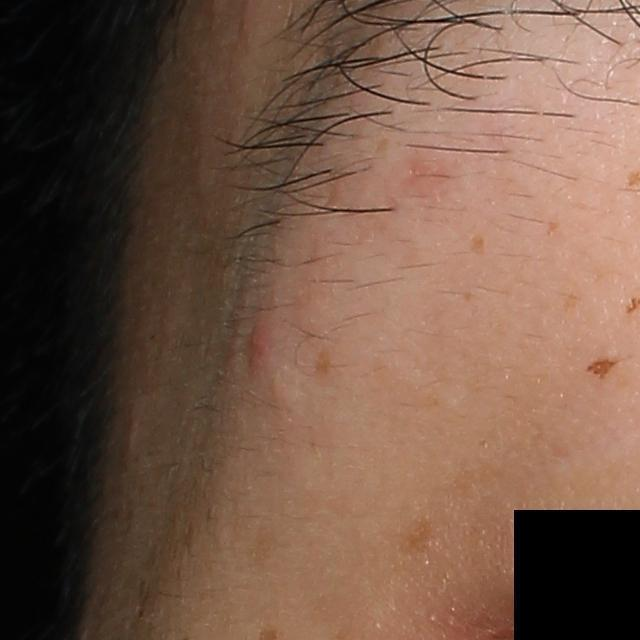melasma: (401, 510, 436, 561), (470, 231, 485, 257)
papule: (248, 318, 275, 370)
